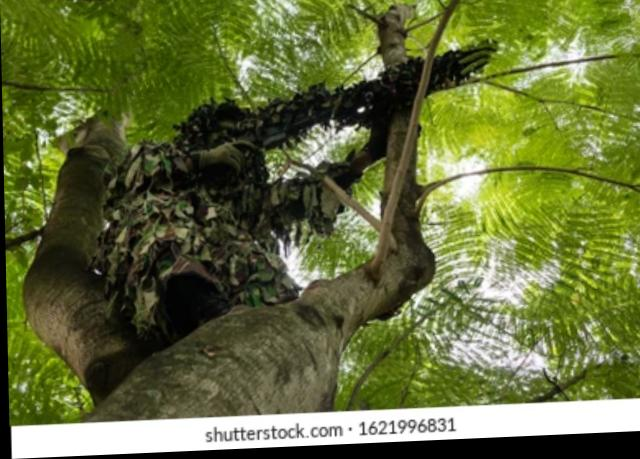other: (85, 52, 323, 349)
